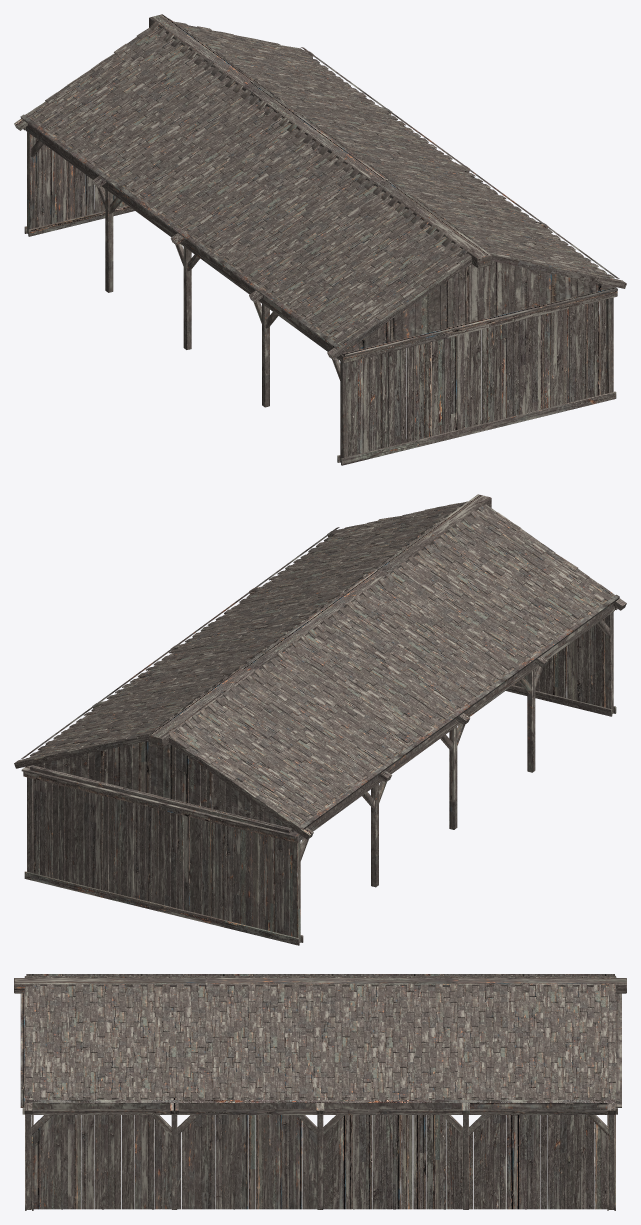
Rendered from farm_timber.glb.
3 renders of one model, top to bottom at view 1: azimuth 30°, elevation 25°; view 2: azimuth 150°, elevation 25°; view 3: azimuth 270°, elevation 25°, orthographic. The views are drawn at different scales.
Visible parts, largest first — view 1: House_Farm_wood; view 2: House_Farm_wood; view 3: House_Farm_wood.
Part boxes in pixels (x1,y1,x2,y2): House_Farm_wood: [14, 14, 626, 465]; House_Farm_wood: [14, 494, 626, 945]; House_Farm_wood: [14, 974, 626, 1210].
Bounding box in the file's own units: 10.9 × 6.38 × 21.03.
1 material, 1 textured.
